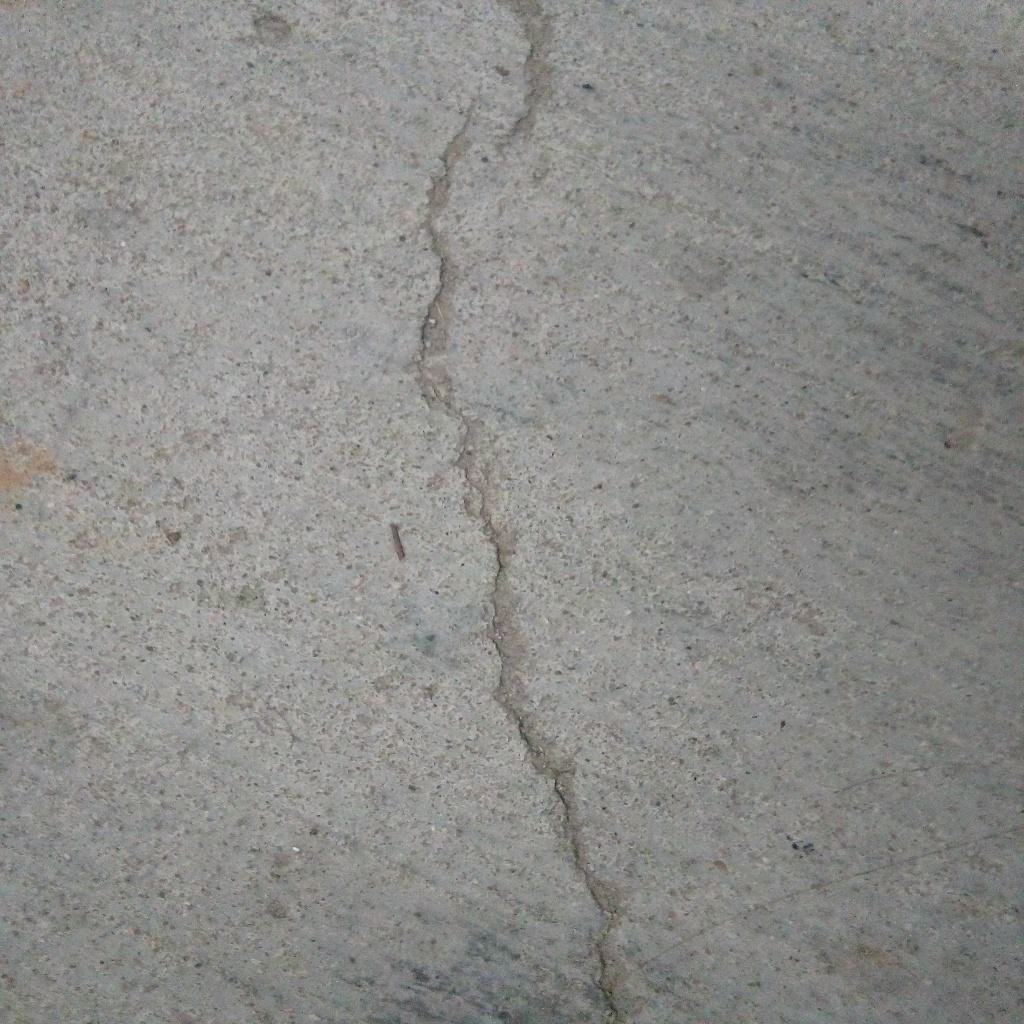Crack: (413, 100, 621, 1024), (494, 1, 559, 138)
Spalling: (252, 14, 293, 47)
